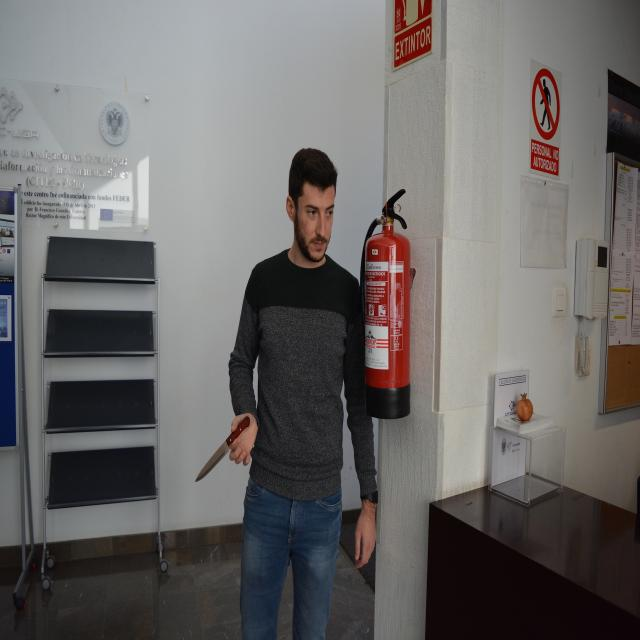knife: (193, 415, 252, 487)
